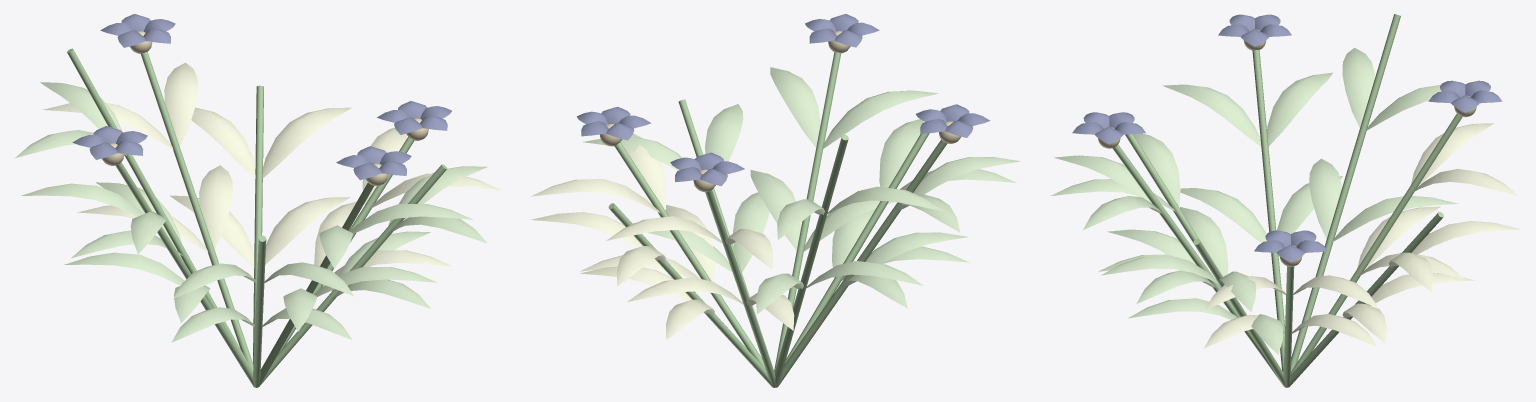
File: SM_WLA_Wildflowers_A.fbx
The picture shows the model from 3 angles, left to right: view 1: azimuth 30°, elevation 25°; view 2: azimuth 150°, elevation 25°; view 3: azimuth 270°, elevation 25°; orthographic projection. The views are drawn at different scales.
Visible parts, largest first — view 1: SM_WLA_Wildflowers_A; view 2: SM_WLA_Wildflowers_A; view 3: SM_WLA_Wildflowers_A.
Boxes of the visible parts, x1=… form: SM_WLA_Wildflowers_A: x1=15, y1=14, x2=500, y2=387; SM_WLA_Wildflowers_A: x1=531, y1=14, x2=1020, y2=387; SM_WLA_Wildflowers_A: x1=1051, y1=14, x2=1520, y2=387.
Bounding box in the file's own units: 0.7853 × 0.7817 × 0.5751.
